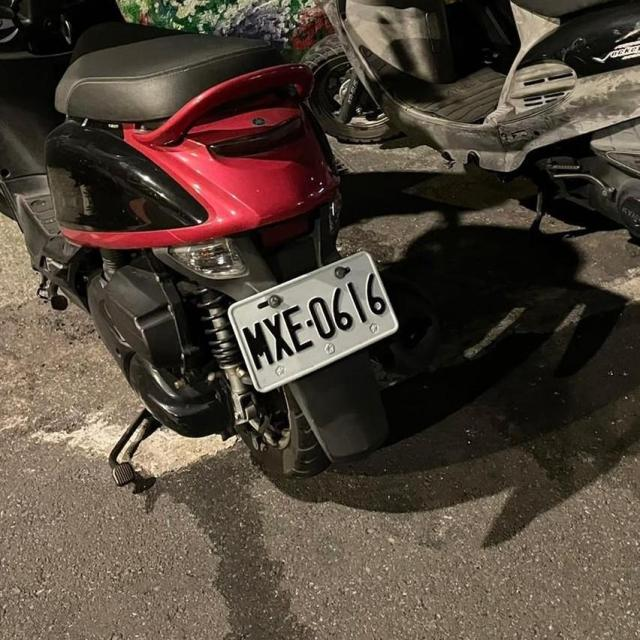W: (219, 242, 413, 398)
